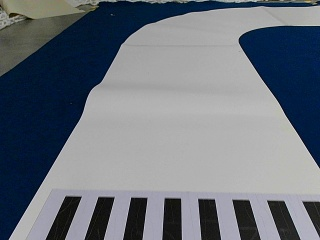crosswalk: (47, 194, 319, 239)
